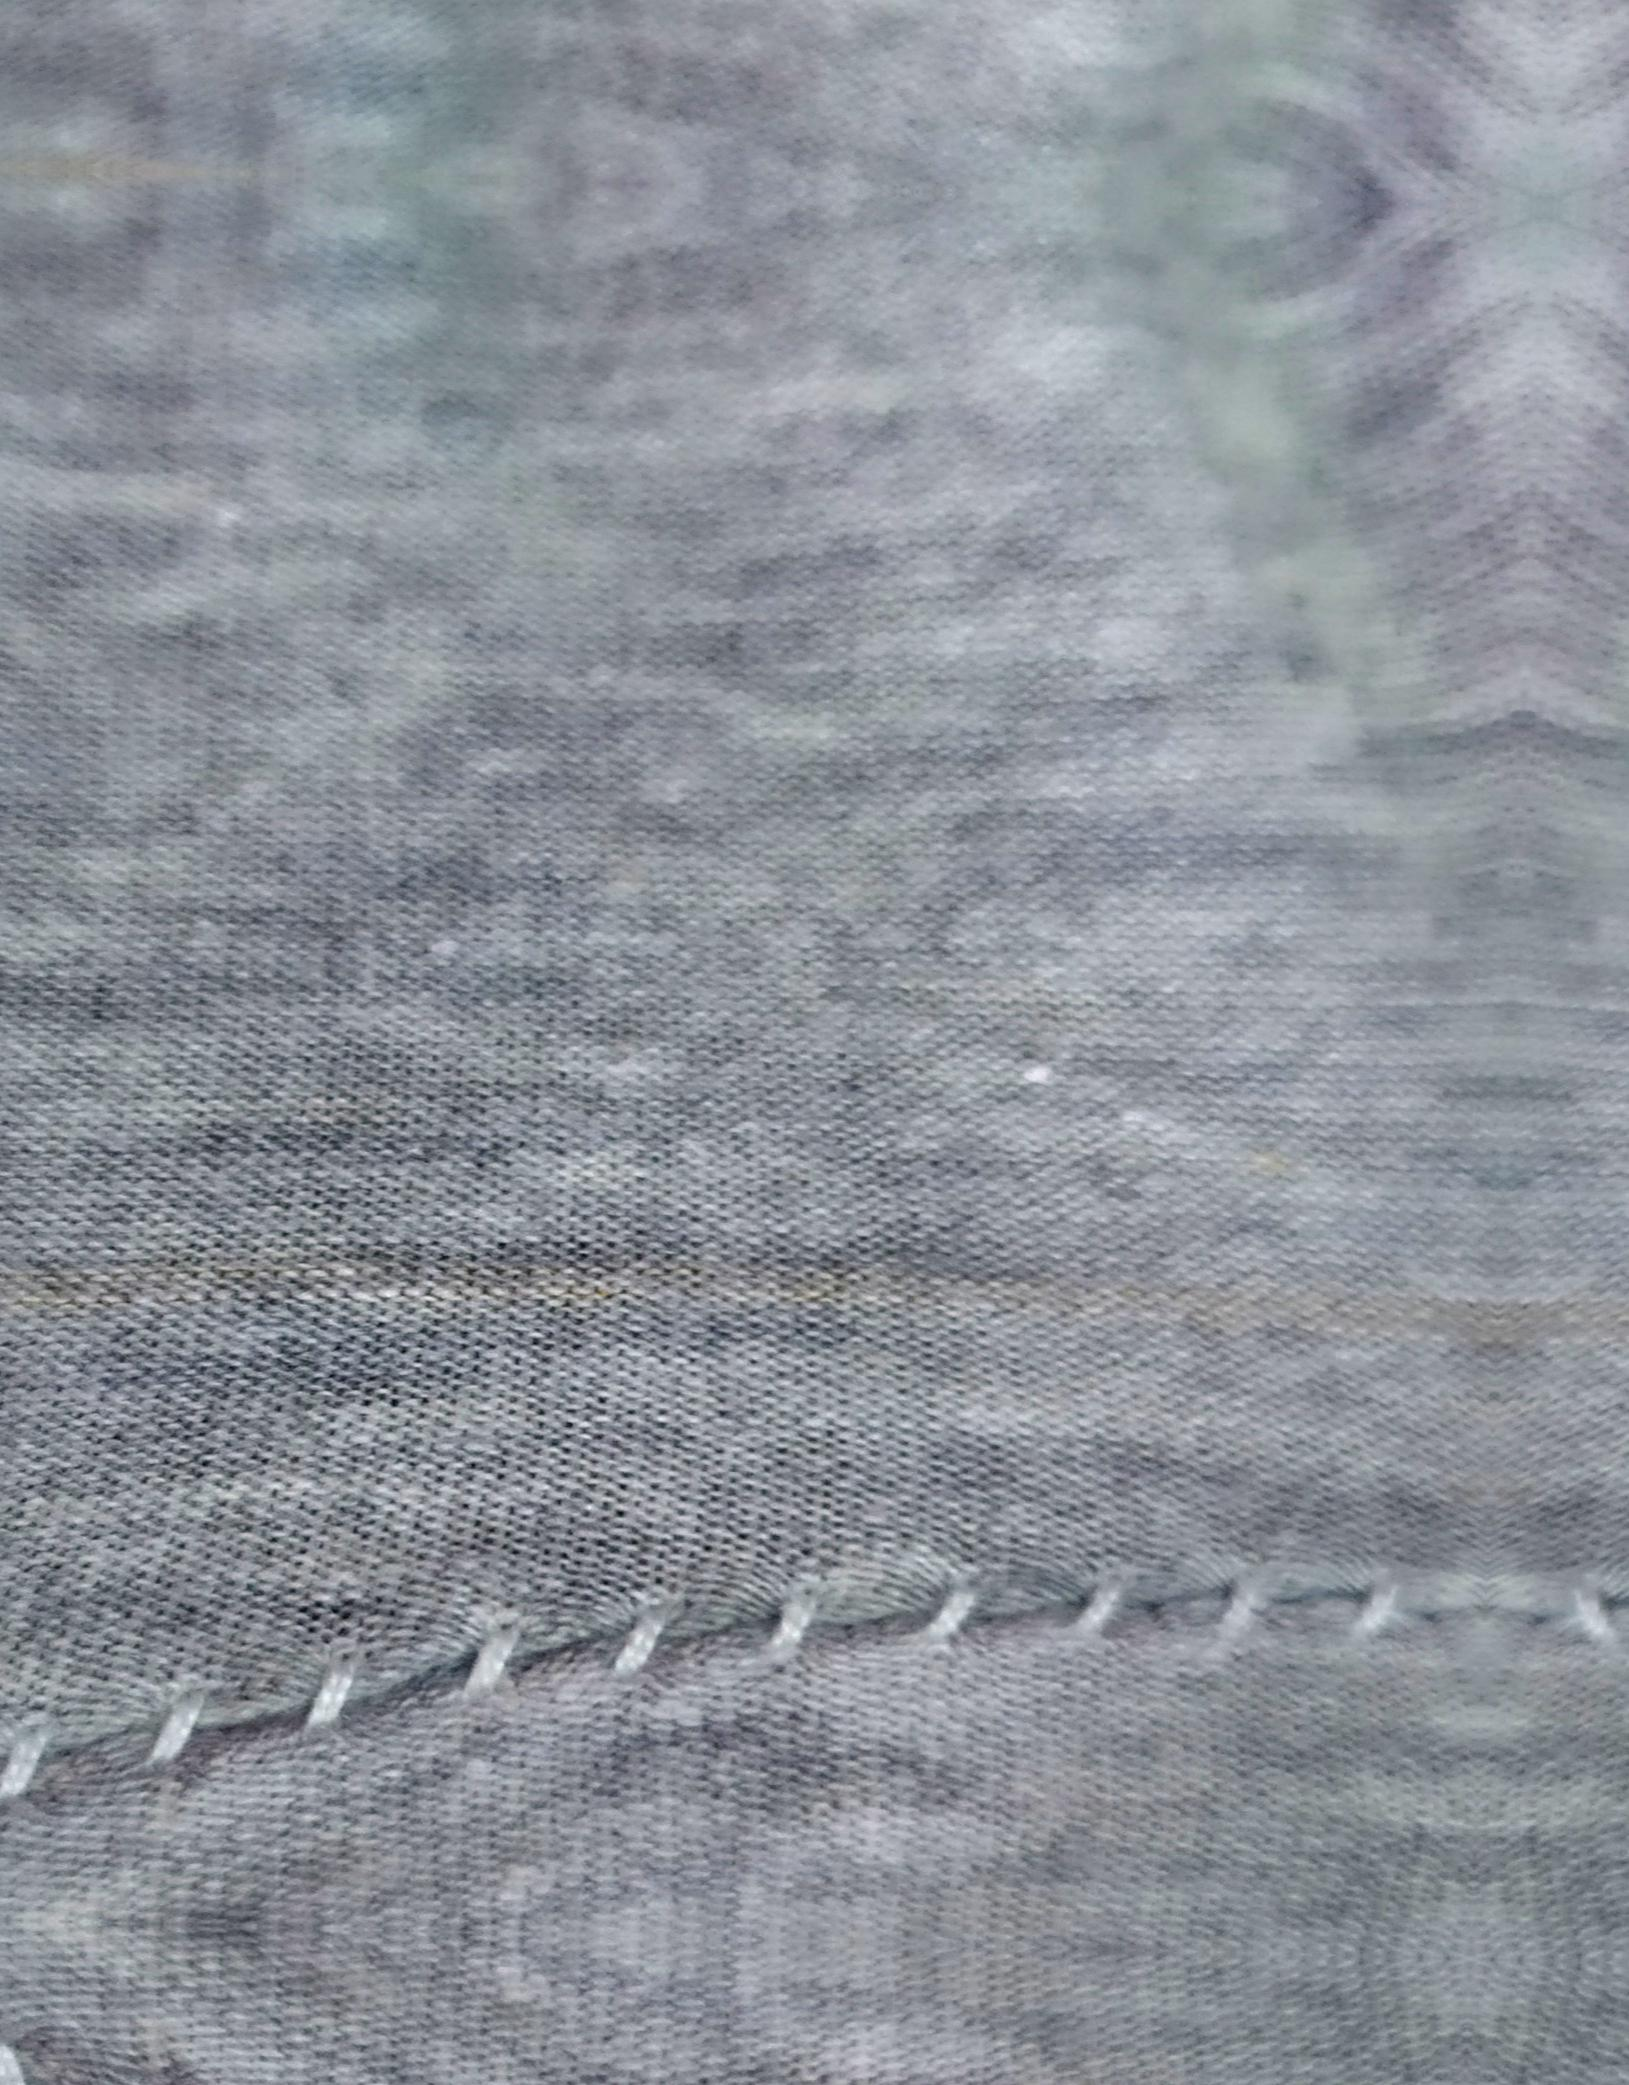slub: (0, 1565, 1626, 1831)
